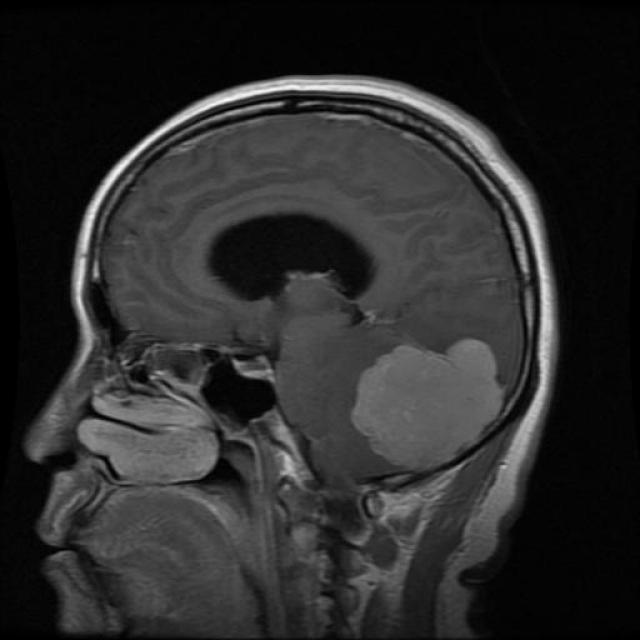Brain-Tumor: (342, 325, 518, 482)
